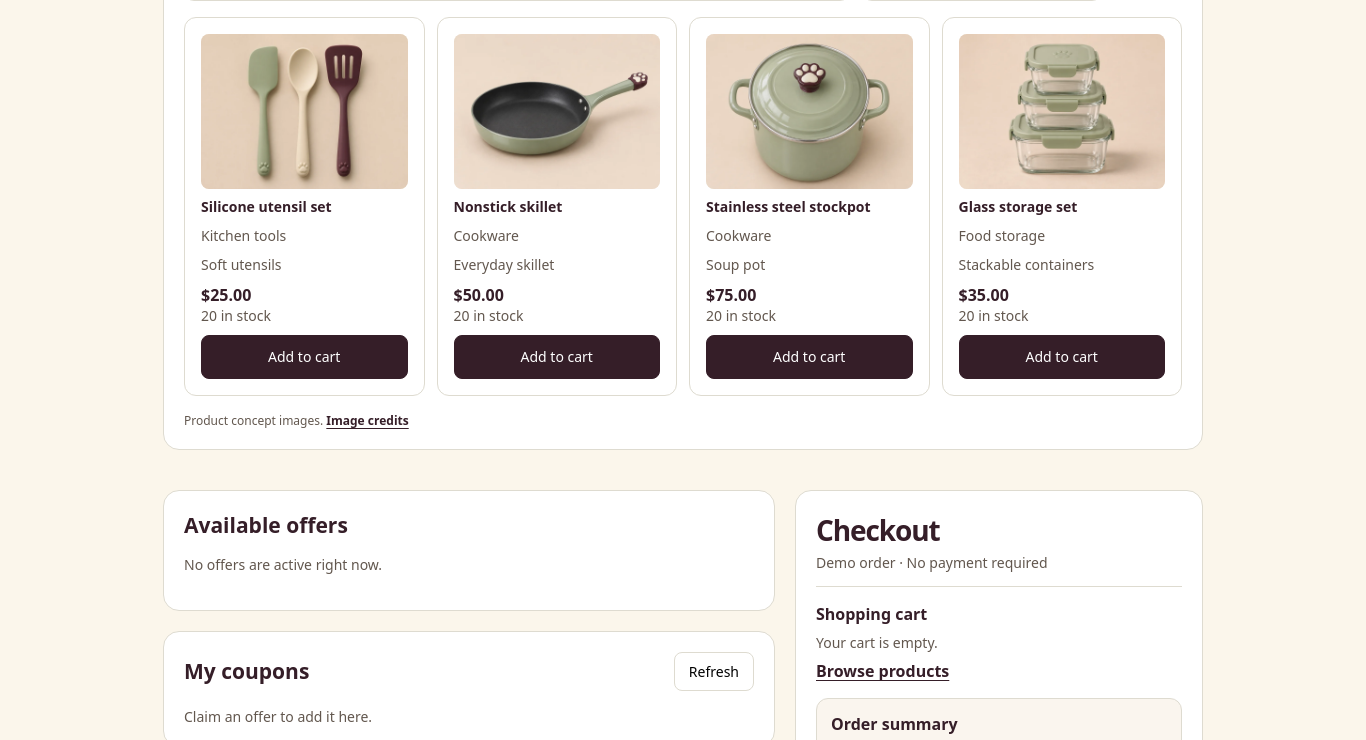
preserves the pending order and asks for sign-in when the session expires during checkout
The width and height of the screenshot is (1366, 740).
(page scrolled)
Click the button with aria-label "Add Nonstick skillet to cart" at (557, 357), box left=454, top=335, right=660, bottom=379
(page scrolled)
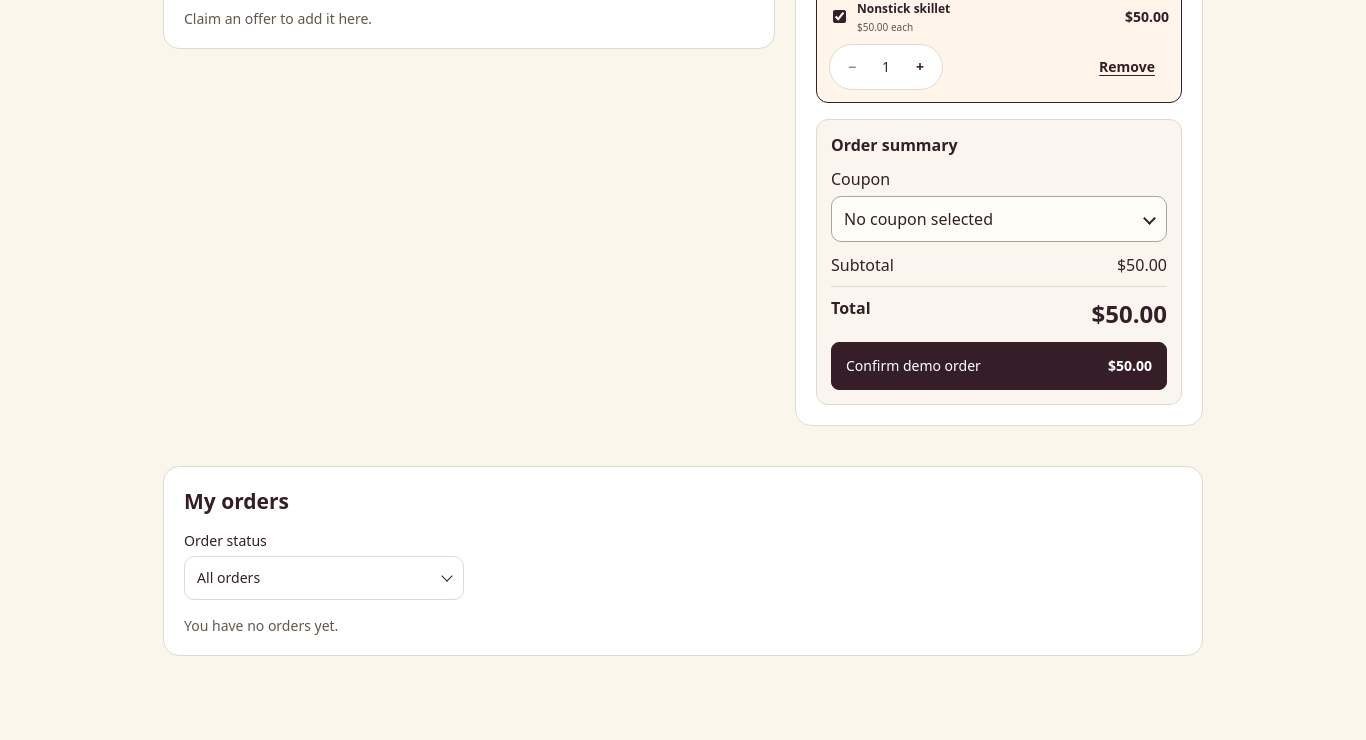
Click the button "Confirm demo order $50.00" at (913, 366), box left=831, top=342, right=1167, bottom=390
(page scrolled)
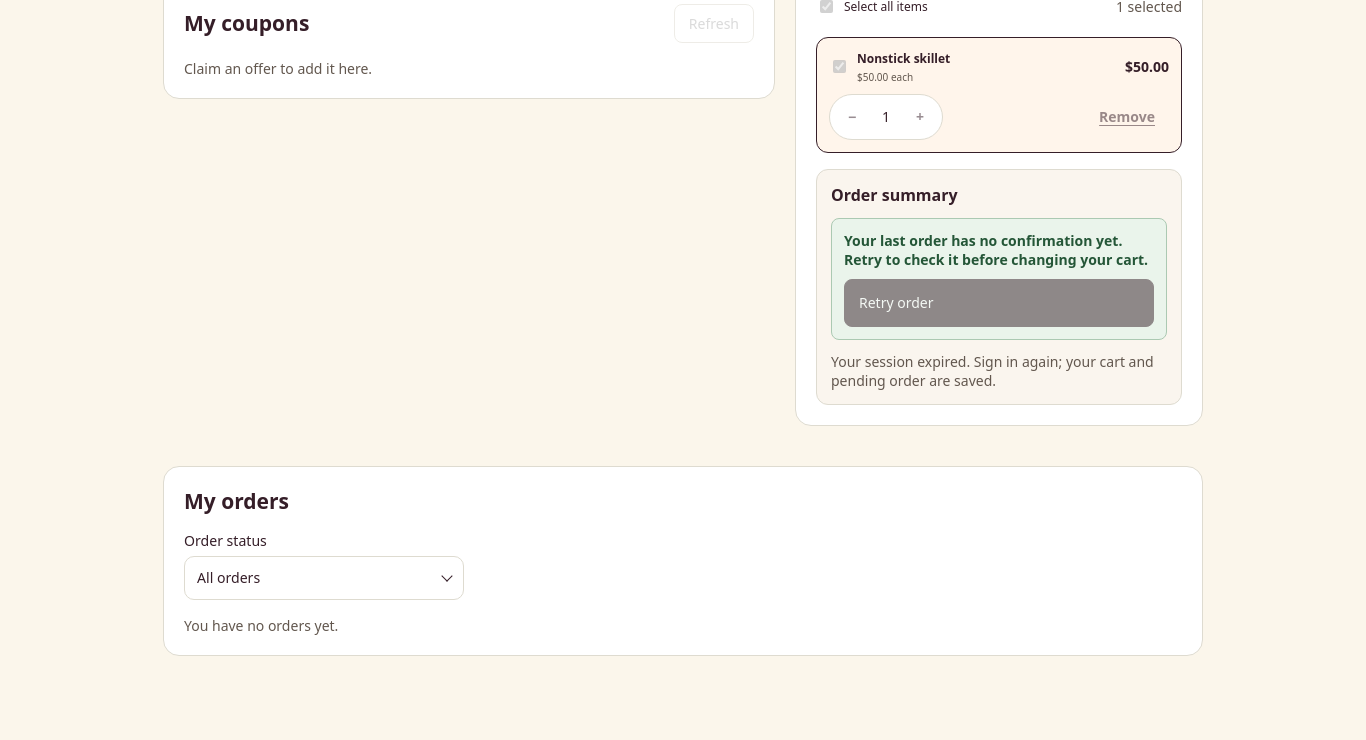
Check: the checkbox labelled "Nonstick skillet $50.00 each" is checked, box left=833, top=60, right=846, bottom=73
Check: the button "Retry order" is disabled, box left=844, top=279, right=1154, bottom=327
